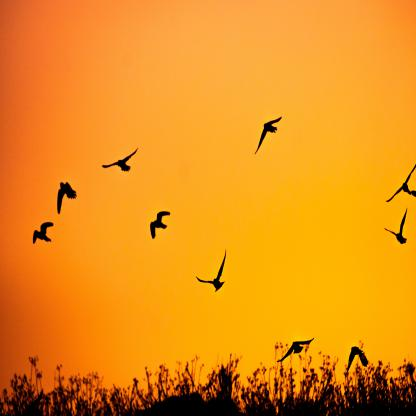bird: (196, 248, 227, 292), (385, 163, 415, 203), (255, 116, 282, 155), (277, 338, 314, 363), (384, 207, 408, 245), (102, 147, 138, 172), (345, 346, 368, 378), (57, 181, 77, 214), (150, 211, 170, 239), (33, 222, 53, 244)
